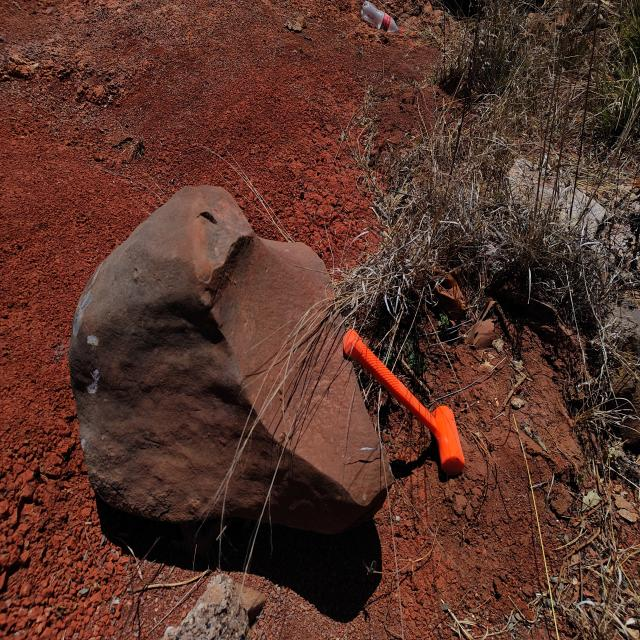Orange_hammer: (342, 327, 465, 478)
